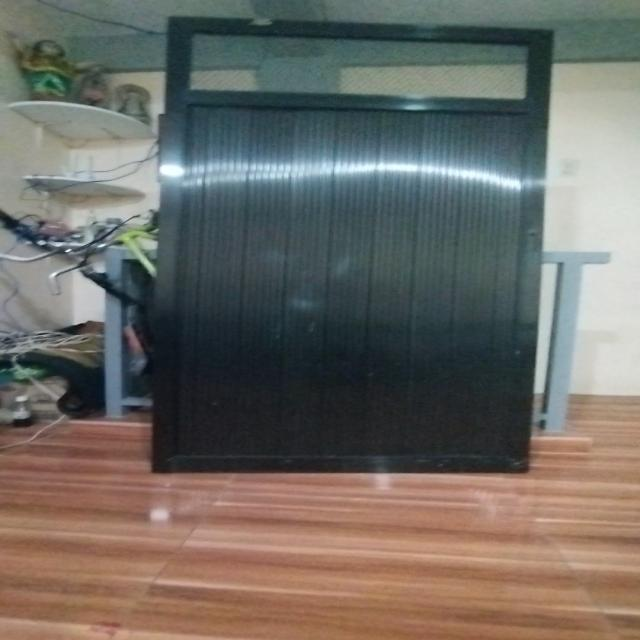door: (141, 17, 559, 476)
